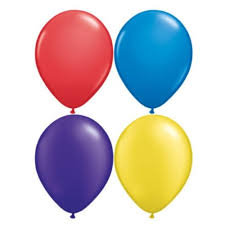Balloon: (114, 114, 192, 213), (114, 9, 193, 106), (35, 10, 113, 108), (35, 115, 113, 213)
